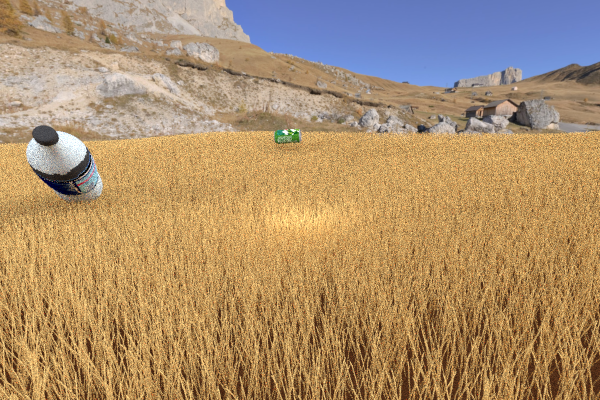bottle: (26, 125, 102, 204)
can: (273, 128, 301, 143)
